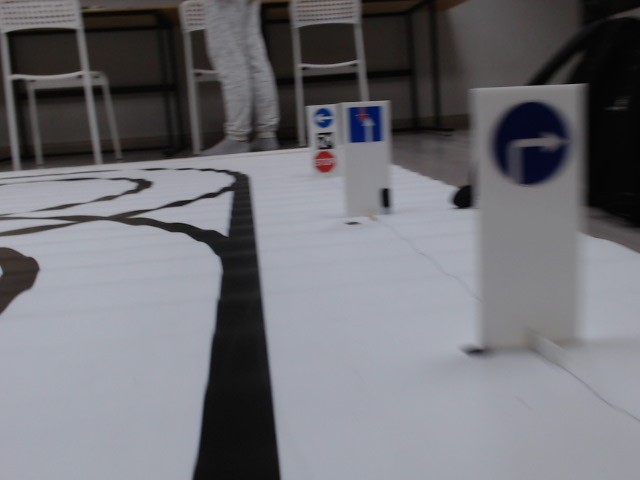Right: (488, 102, 575, 187)
Stop: (311, 151, 336, 170)
priority_movement: (345, 104, 387, 144)
